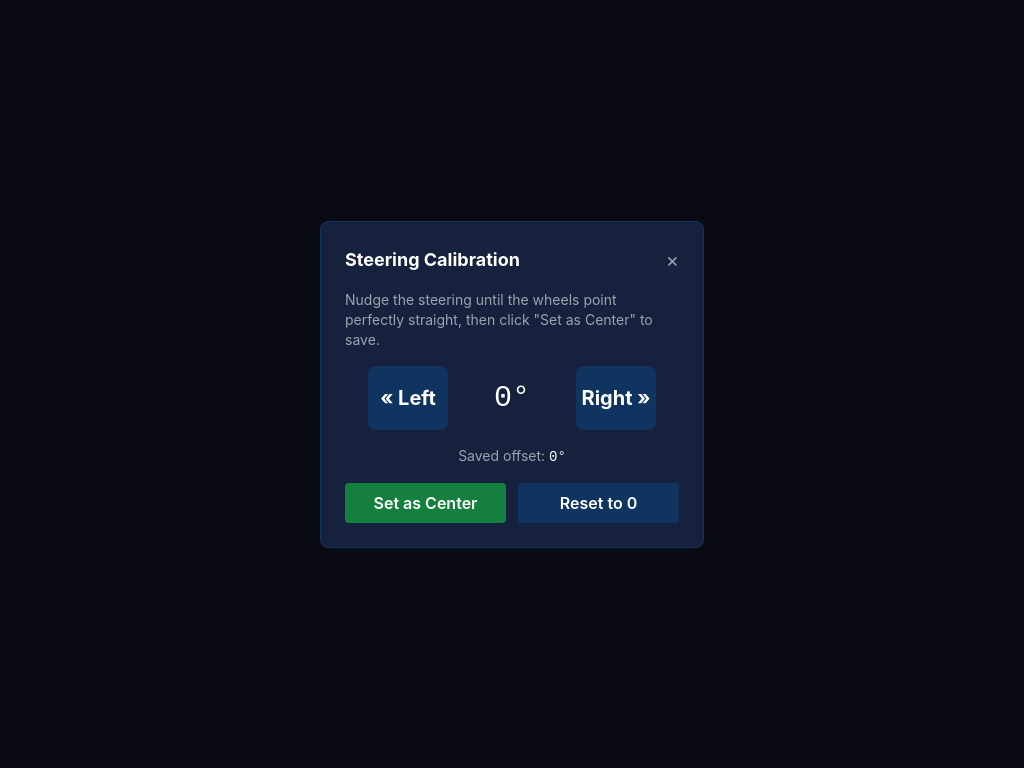
Test case: CalibrationPanel › clicking Right increments angle by 1 and sends calibrate_steer
Click the button "Right »" at [616, 398], box [576, 366, 656, 430]
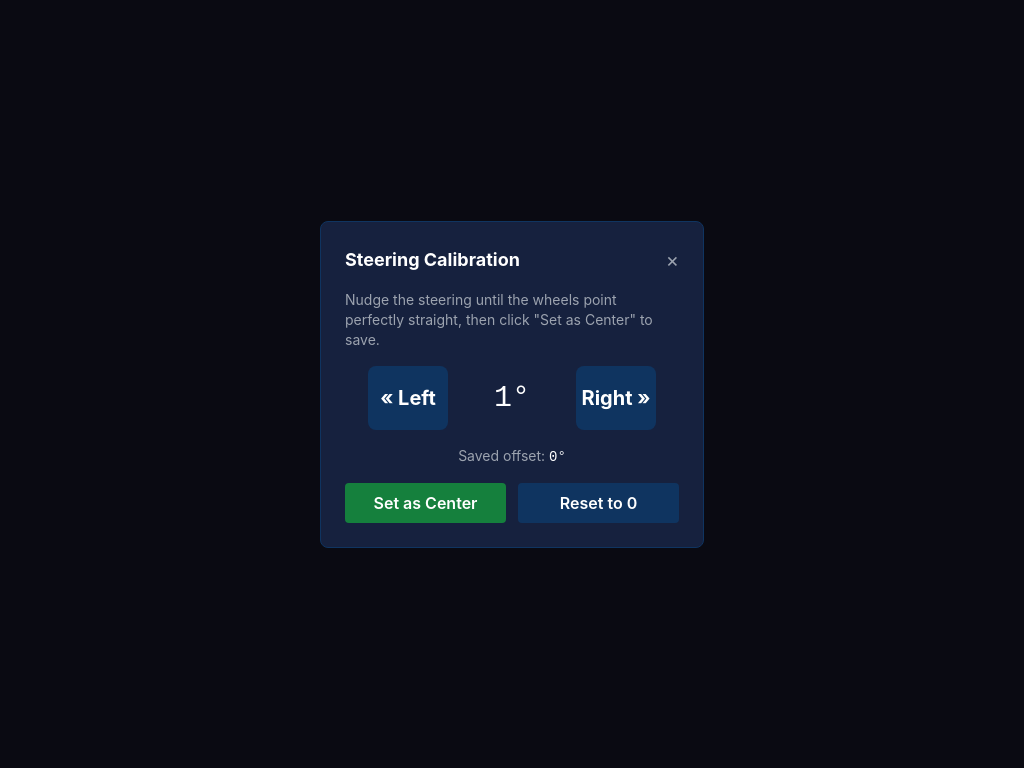
Check: the text "1°" is shown, box [494, 380, 530, 414]
